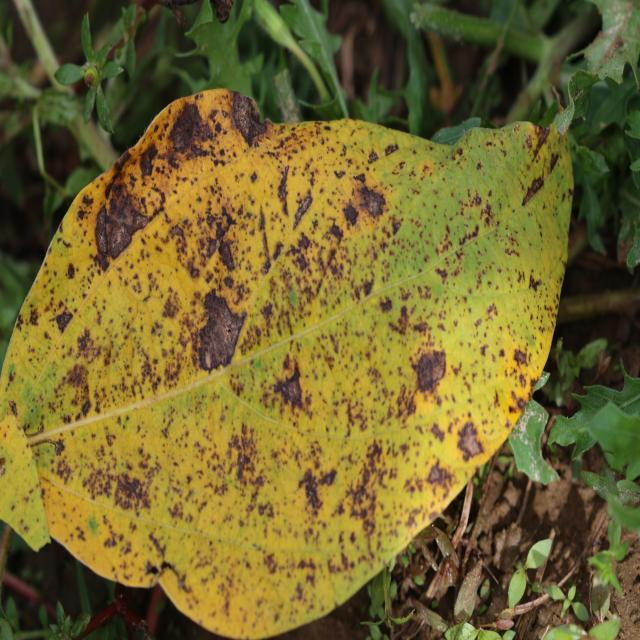Bacterial_Blight: (409, 325, 457, 419), (280, 450, 338, 523), (196, 292, 248, 372), (101, 184, 150, 264), (168, 100, 209, 154), (268, 358, 308, 412), (231, 91, 264, 146), (113, 470, 153, 512), (356, 182, 385, 220), (456, 421, 484, 459), (94, 206, 110, 265), (75, 326, 100, 362), (427, 462, 455, 492), (522, 175, 546, 206), (456, 224, 482, 252), (293, 193, 313, 229), (162, 291, 182, 320), (219, 239, 236, 272), (341, 199, 360, 227), (533, 123, 551, 151), (55, 309, 73, 334), (388, 214, 404, 238), (512, 347, 529, 368), (51, 438, 65, 457), (379, 295, 393, 313), (529, 274, 542, 292), (549, 151, 559, 174), (485, 303, 498, 320), (367, 148, 380, 164), (384, 143, 398, 156), (66, 262, 76, 279), (525, 136, 532, 149), (476, 161, 482, 170), (514, 123, 520, 131)
Soybean: (0, 89, 573, 637)
